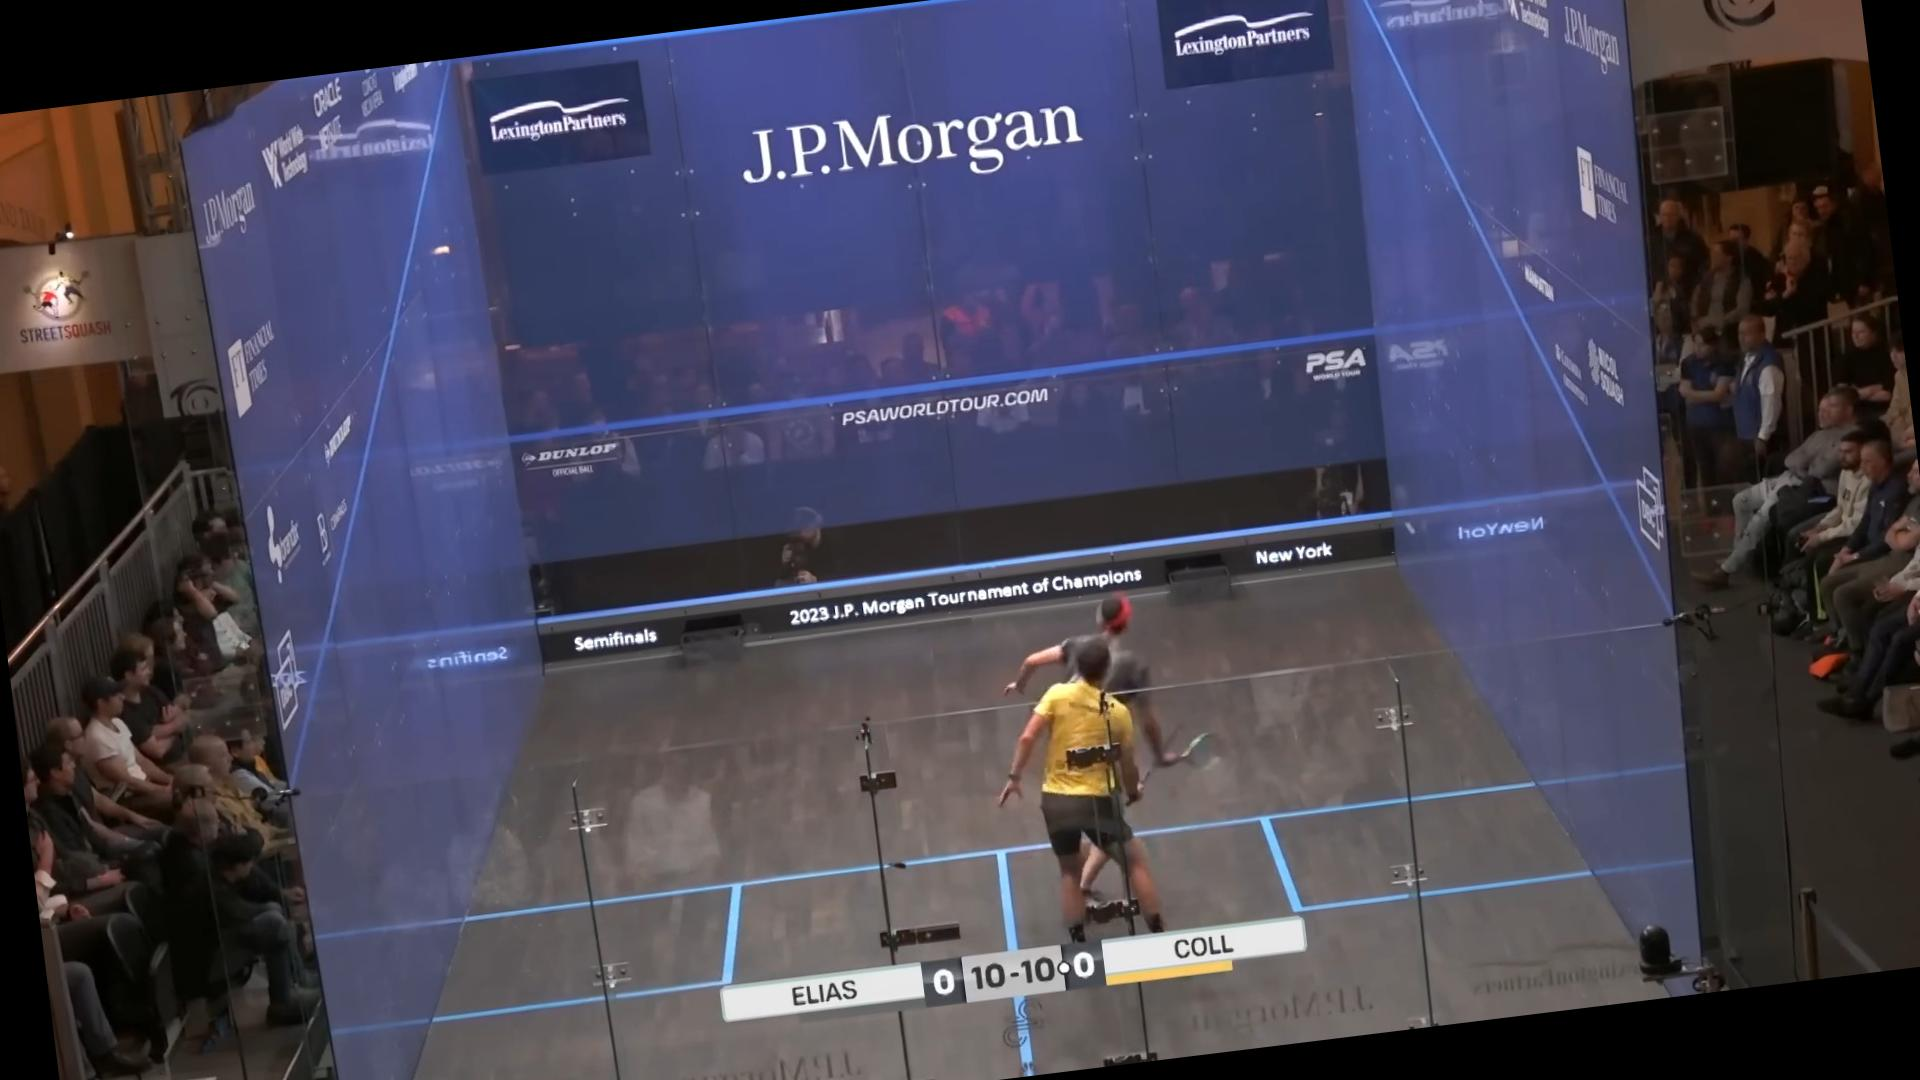Racket: (1138, 717, 1242, 782)
